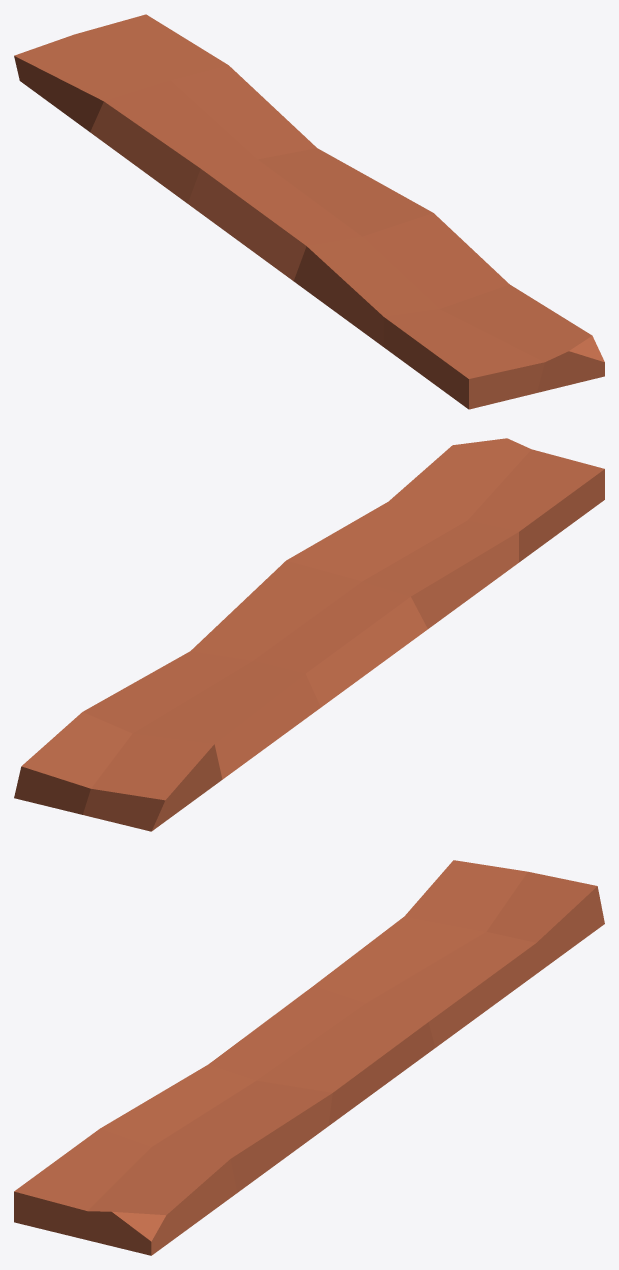
Rendered from WoodenPlank5.fbx.
The picture shows the model from 3 angles, top to bottom: view 1: azimuth 30°, elevation 25°; view 2: azimuth 150°, elevation 25°; view 3: azimuth 330°, elevation 25°; orthographic projection.
Visible parts, largest first — view 1: Plank5; view 2: Plank5; view 3: Plank5.
Boxes of the visible parts, box(x1,y1,x2,y2) form: Plank5: box(14, 14, 604, 409); Plank5: box(14, 438, 604, 831); Plank5: box(14, 860, 604, 1255).
Size of the model in its own units: 154 by 35.07 by 808.
